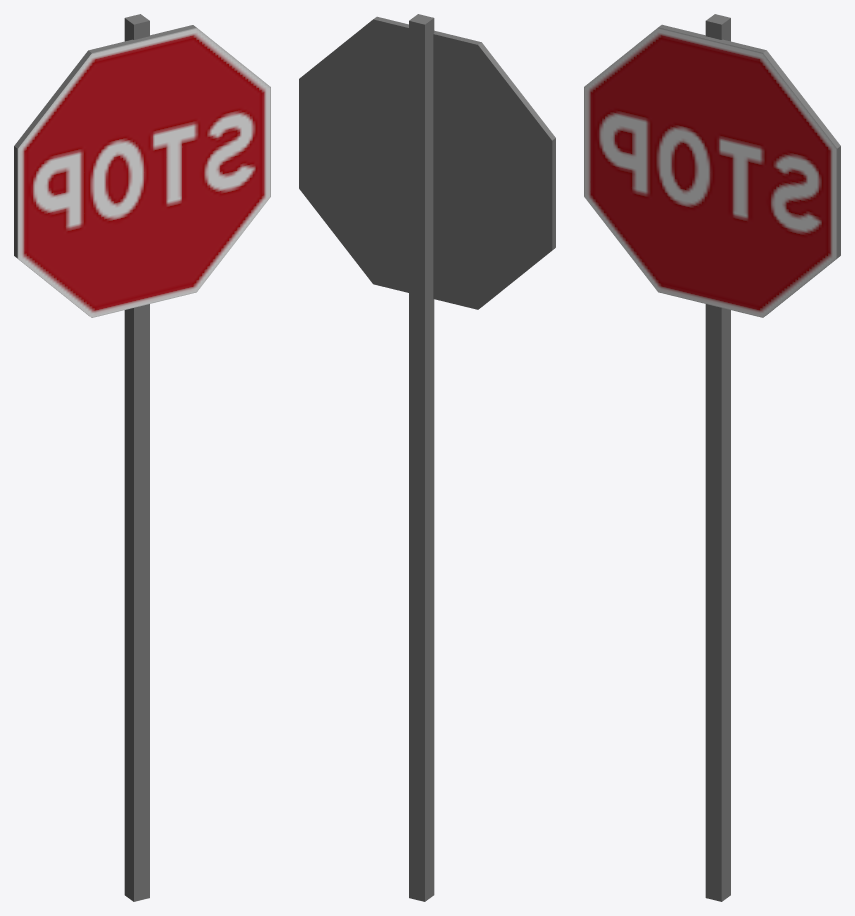
Rendered from Stop.obj.
3 renders of one model, left to right at view 1: azimuth 30°, elevation 25°; view 2: azimuth 150°, elevation 25°; view 3: azimuth 330°, elevation 25°, orthographic.
Visible parts, largest first — view 1: Sign_Stop; view 2: Sign_Stop; view 3: Sign_Stop.
Part boxes in pixels (x1,y1,x2,y2): Sign_Stop: (14, 14, 270, 901); Sign_Stop: (299, 14, 555, 901); Sign_Stop: (584, 14, 840, 901).
Bounding box in the file's own units: 1.33 × 4.42 × 0.1104.
2 materials, 2 textured.
